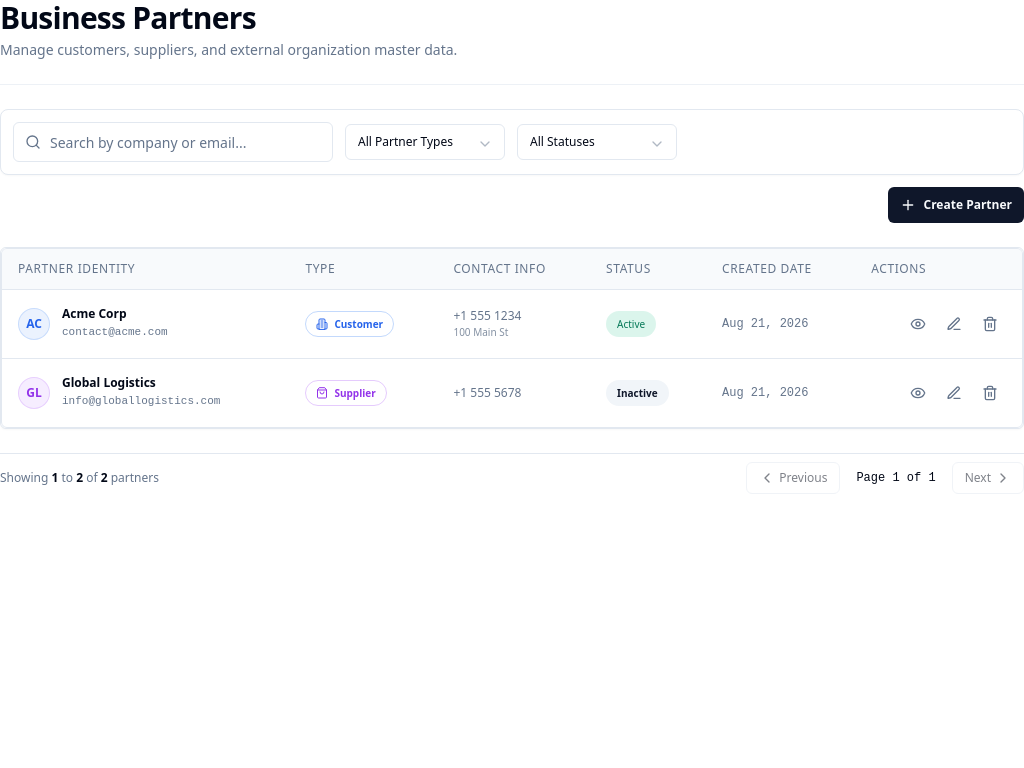
Test case: Partner Management Suite › opens Create Partner modal when Create Partner button is clicked
Click the button "Create Partner": (956, 205) [888,187,1023,223]
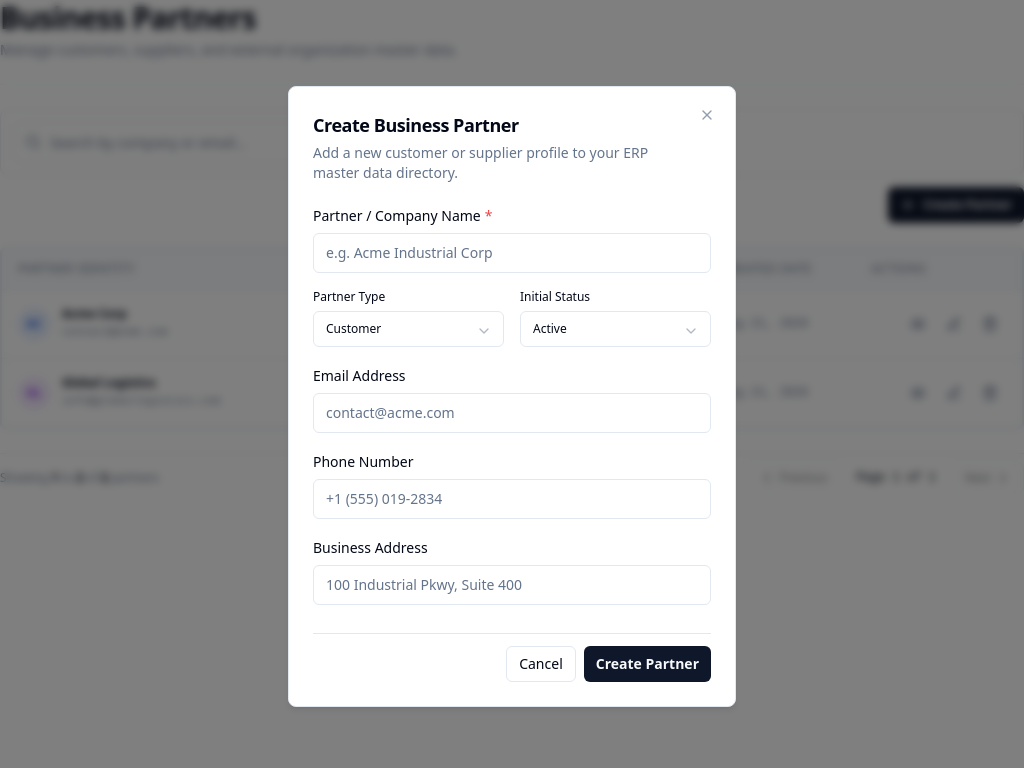
Expected: the heading "Create Business Partner" is shown, [313,112,519,136]
